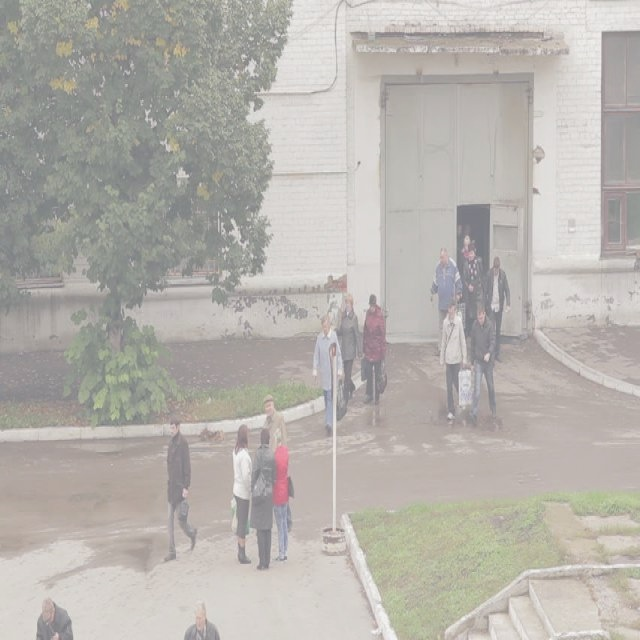pessoa: (162, 412, 198, 564), (259, 392, 293, 536), (310, 310, 347, 434), (248, 424, 276, 574), (427, 244, 463, 360), (467, 297, 498, 424), (439, 298, 469, 422), (358, 292, 388, 407), (272, 425, 296, 563), (482, 254, 512, 364), (232, 422, 254, 566), (332, 292, 360, 404), (460, 240, 484, 346), (33, 592, 76, 639), (182, 596, 222, 639), (455, 218, 483, 246), (456, 244, 468, 276), (473, 244, 485, 272)
